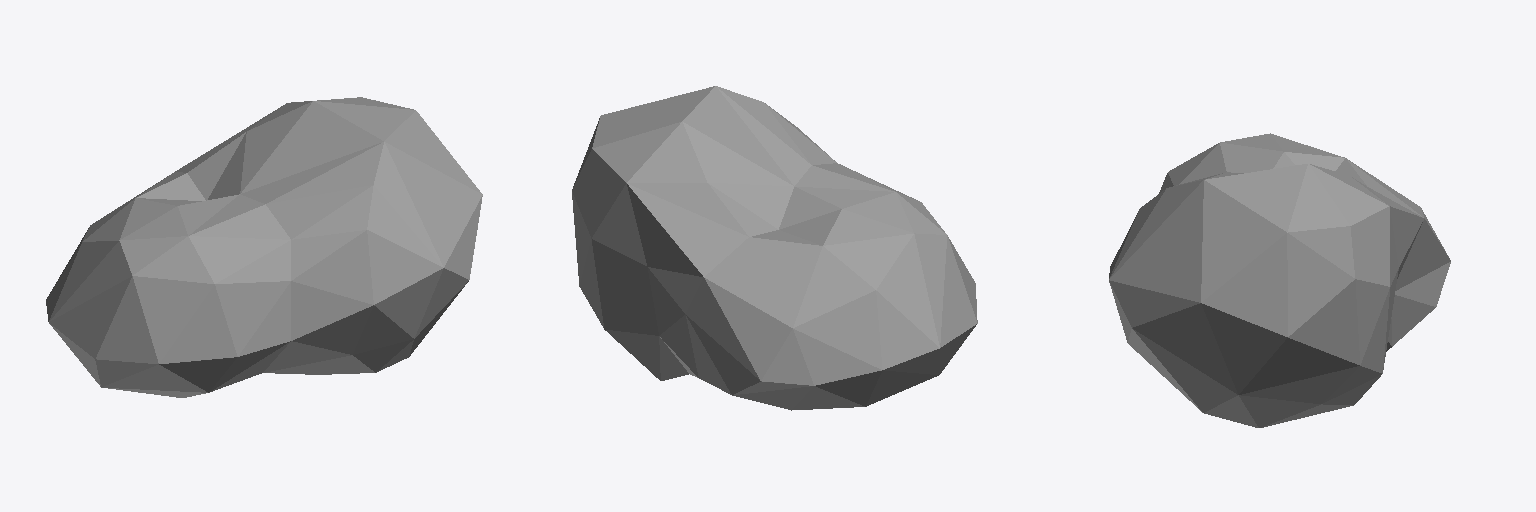
3 views of the same model, side by side, from view 1: azimuth 30°, elevation 25°; view 2: azimuth 150°, elevation 25°; view 3: azimuth 270°, elevation 25° (orthographic).
Parts seen in each view (by area): view 1: rock.002; view 2: rock.002; view 3: rock.002.
Part boxes in pixels (left/top/right/bottom): rock.002: left=46, top=97, right=482, bottom=397; rock.002: left=572, top=86, right=977, bottom=410; rock.002: left=1109, top=133, right=1450, bottom=427.
Bounding box in the file's own units: 1.54 × 0.9872 × 1.2.